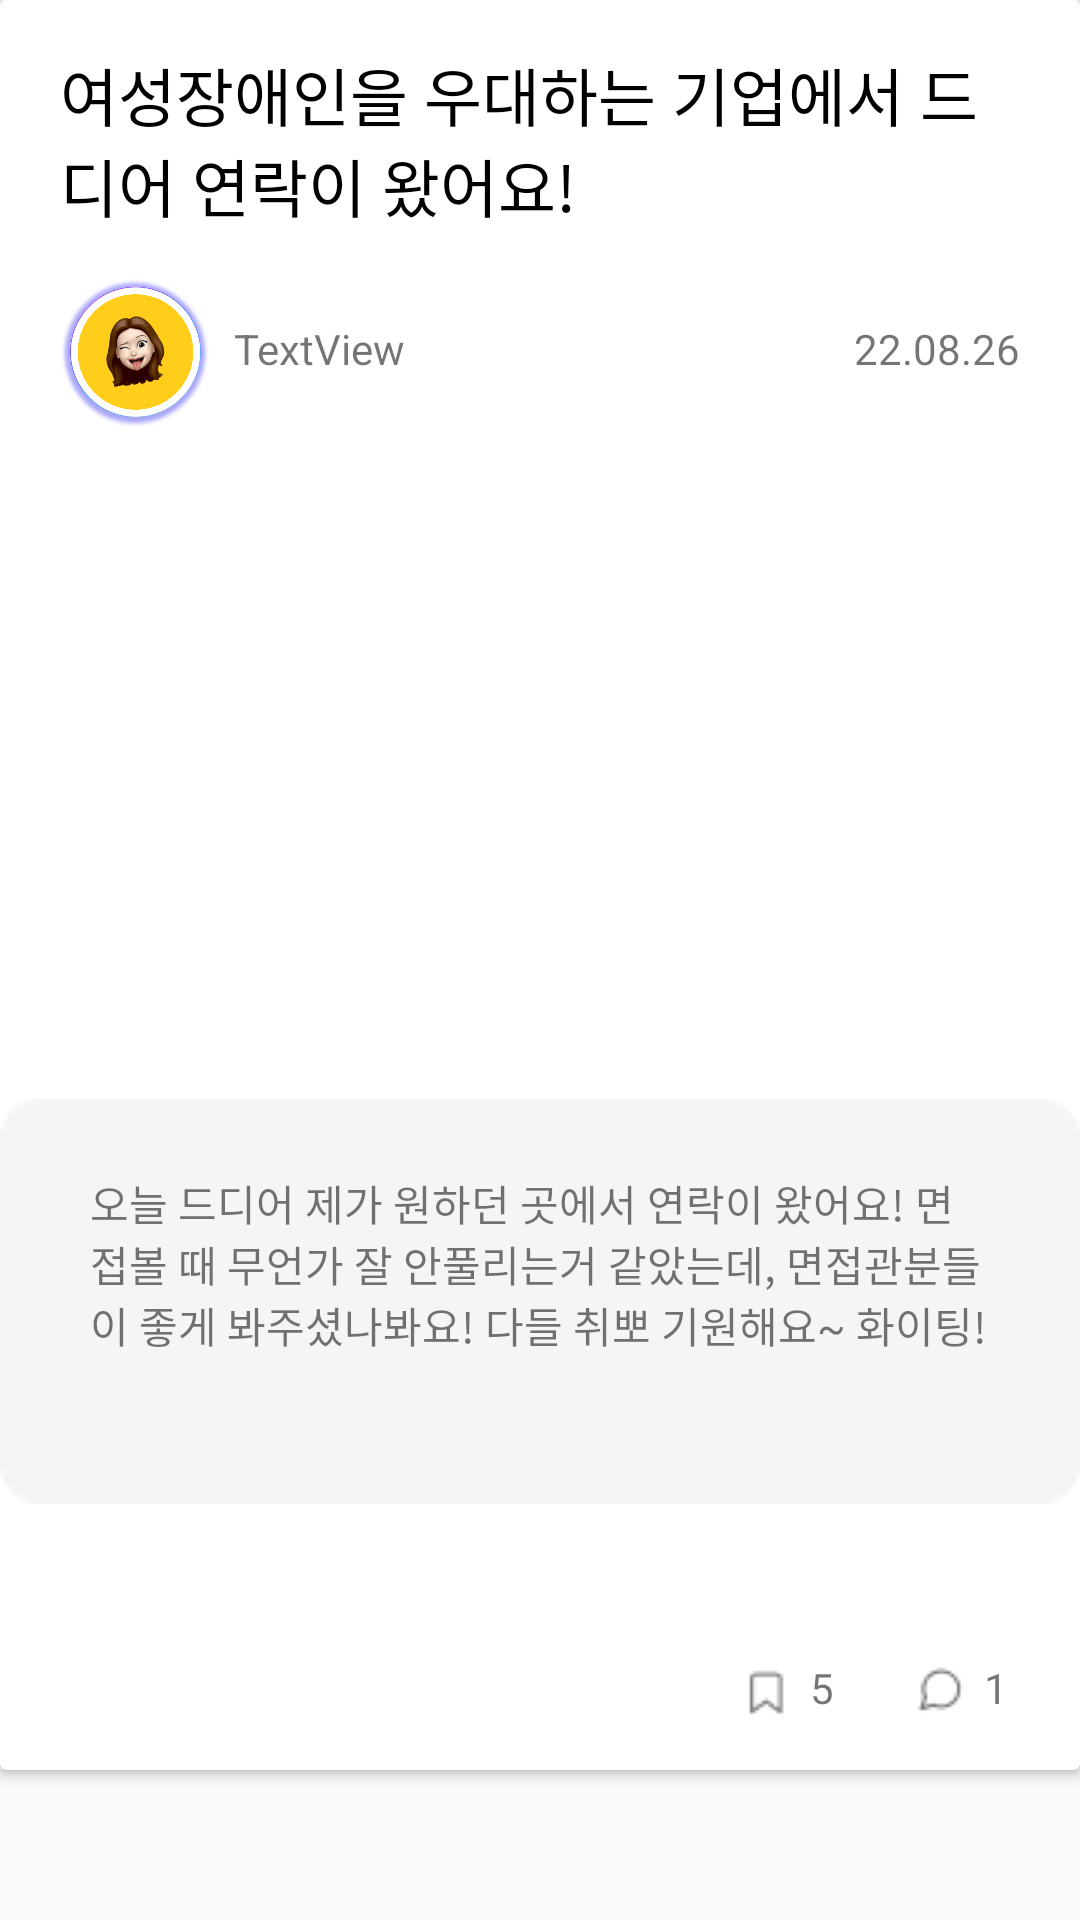

Icon bounding boxes for this 1080px x 1920px phone screenshot, format (x1, y1, x2, y2):
comment: (918, 1668, 961, 1711)
profile go: (64, 282, 206, 424)
scrap: (749, 1671, 784, 1714)
